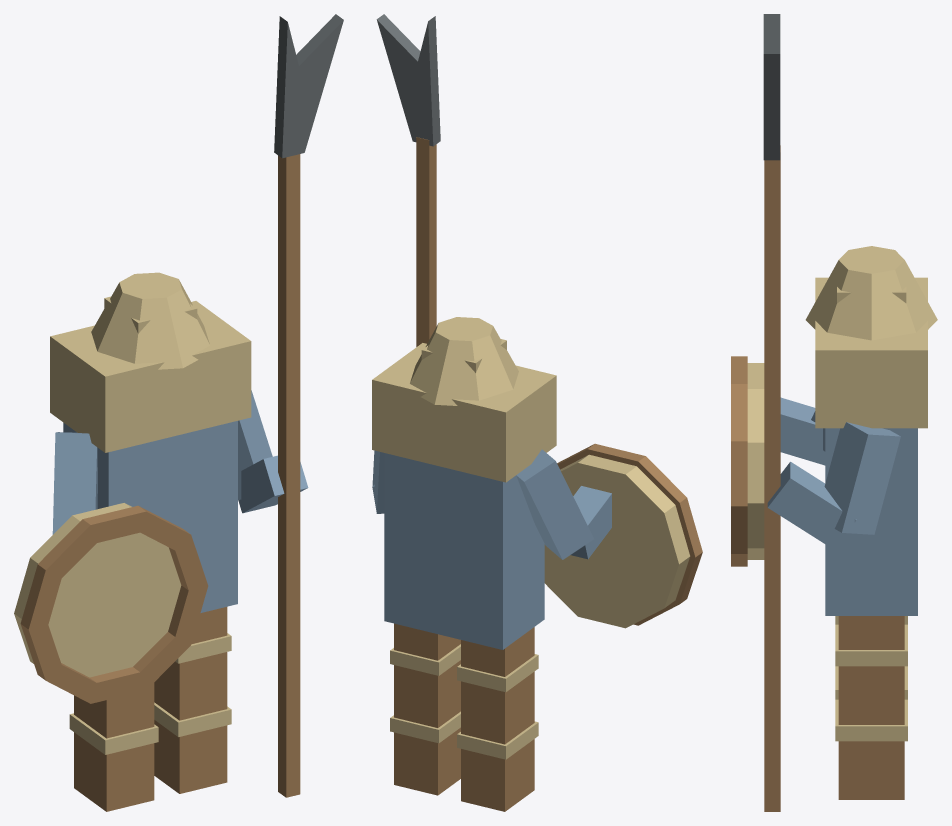
The model's file is peasant-levy.glb.
3 views of the same model, side by side, from view 1: azimuth 30°, elevation 25°; view 2: azimuth 150°, elevation 25°; view 3: azimuth 270°, elevation 25° (orthographic). The views are drawn at different scales.
Visible parts, largest first — view 1: peasant-levy; view 2: peasant-levy; view 3: peasant-levy.
Boxes of the visible parts, x1=… form: peasant-levy: x1=14, y1=14, x2=343, y2=811; peasant-levy: x1=372, y1=14, x2=702, y2=811; peasant-levy: x1=731, y1=14, x2=937, y2=811.
Size of the model in its own units: 1.18 by 2.66 by 0.6249.
